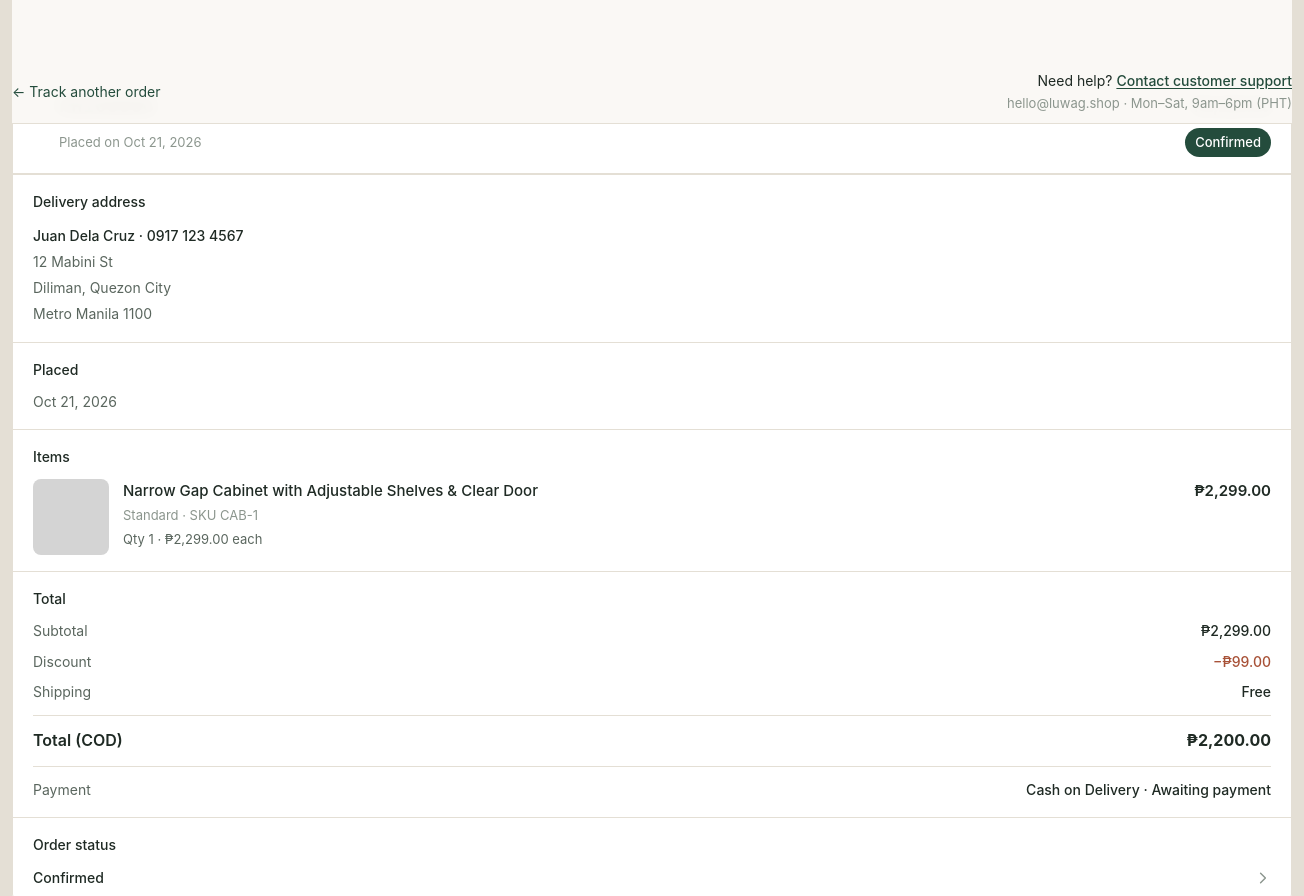
Test: OrderList card layout › expands the history to show every step
Click the button with test id "track-history-PH100006": (68, 877) [33, 867, 1271, 889]
(page scrolled)
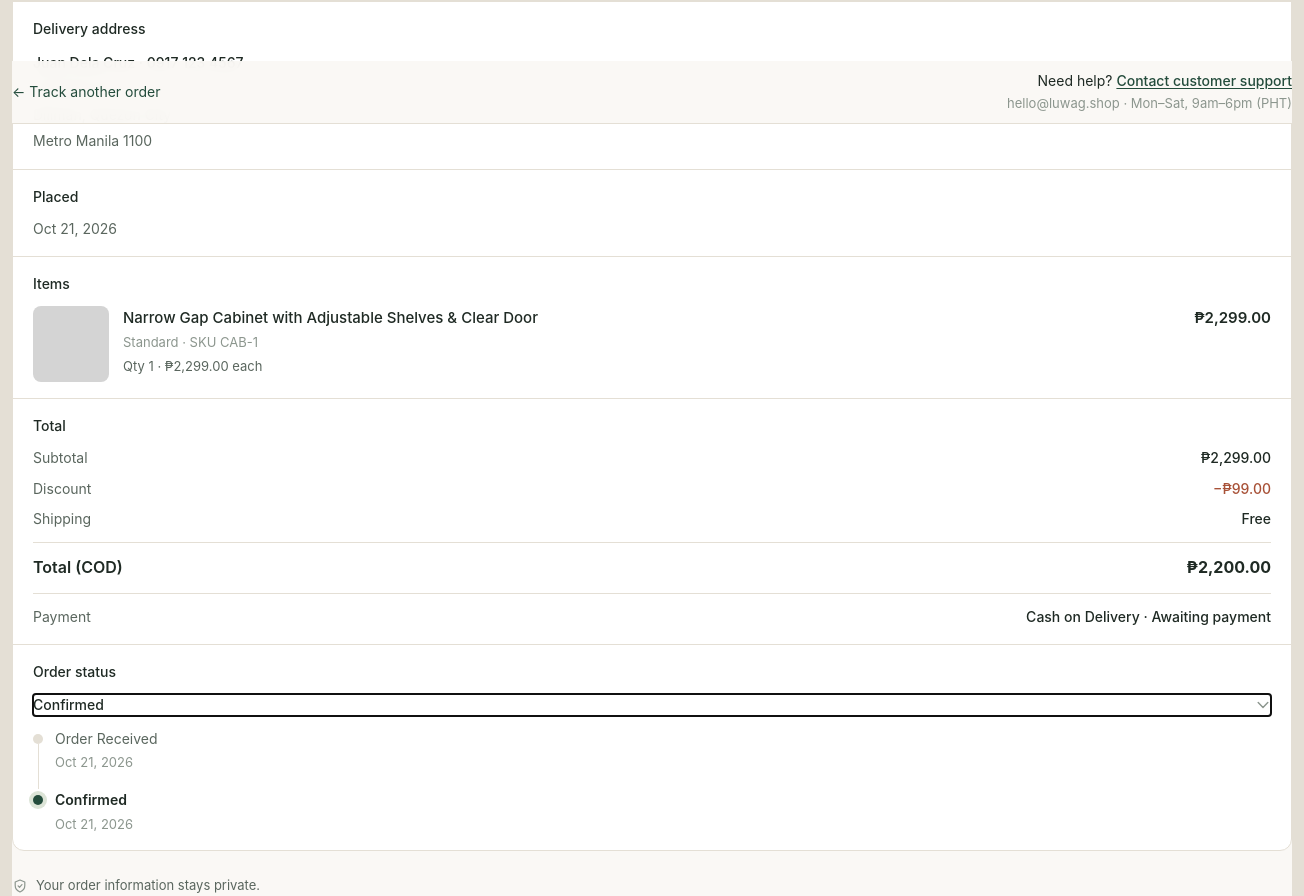
Expected: the list with test id "track-timeline-PH100006" shows "Order Received", [55, 730, 158, 747]
Expected: the list with test id "track-timeline-PH100006" shows "Confirmed", [55, 791, 127, 808]
